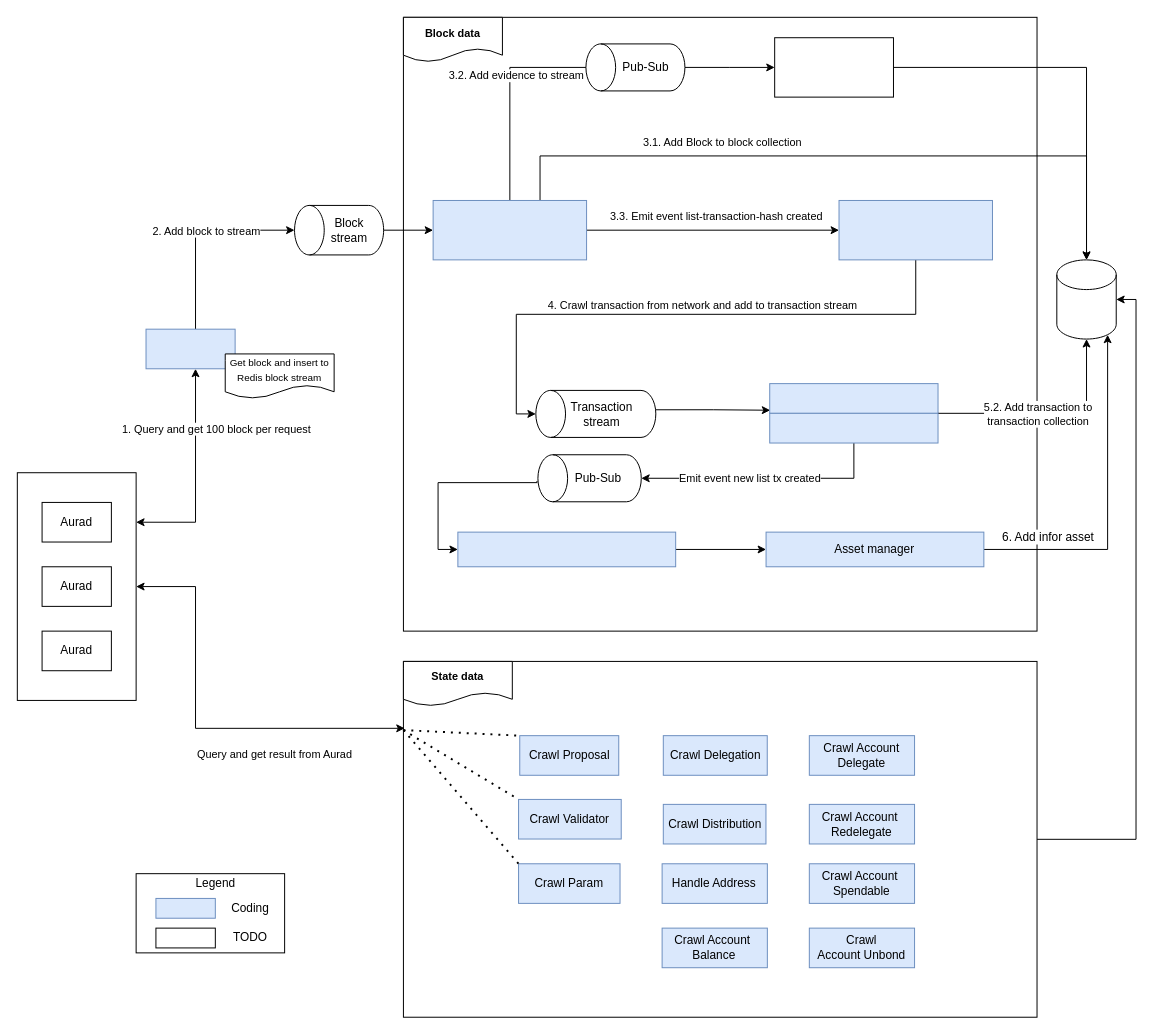
Some shapes in this 1161 by 1035 pixel diagram are drawn without their labels. The shapes that lost their labels are listed below. From the top down, each one's centre as x and y in pixels, then its label:
[833,67]: Handle evidence
[509,229]: Handle block ConsumerHandleBlock:1
[915,229]: Crawl transaction
[1086,299]: Mongo DB
[190,348]: Crawl block
[853,398]: Handle transaction:1
[853,427]: Handle transaction:2
[566,549]: Asset Tx Handle
